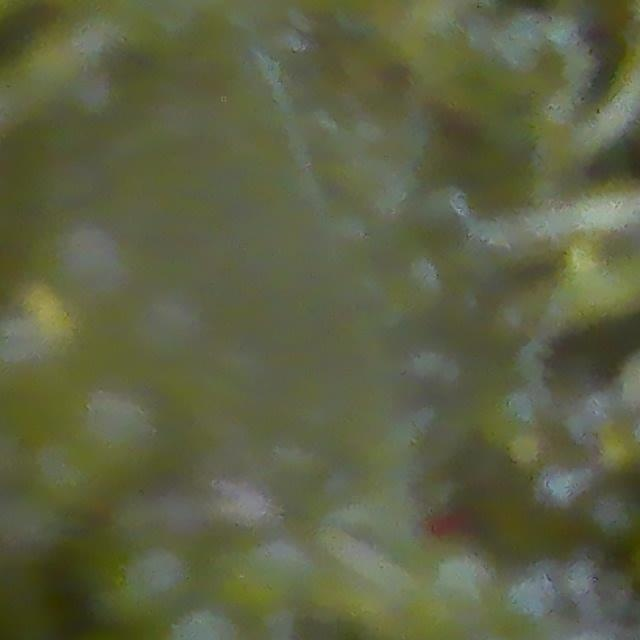SeaGrape: (102, 533, 206, 632), (493, 565, 562, 634)
